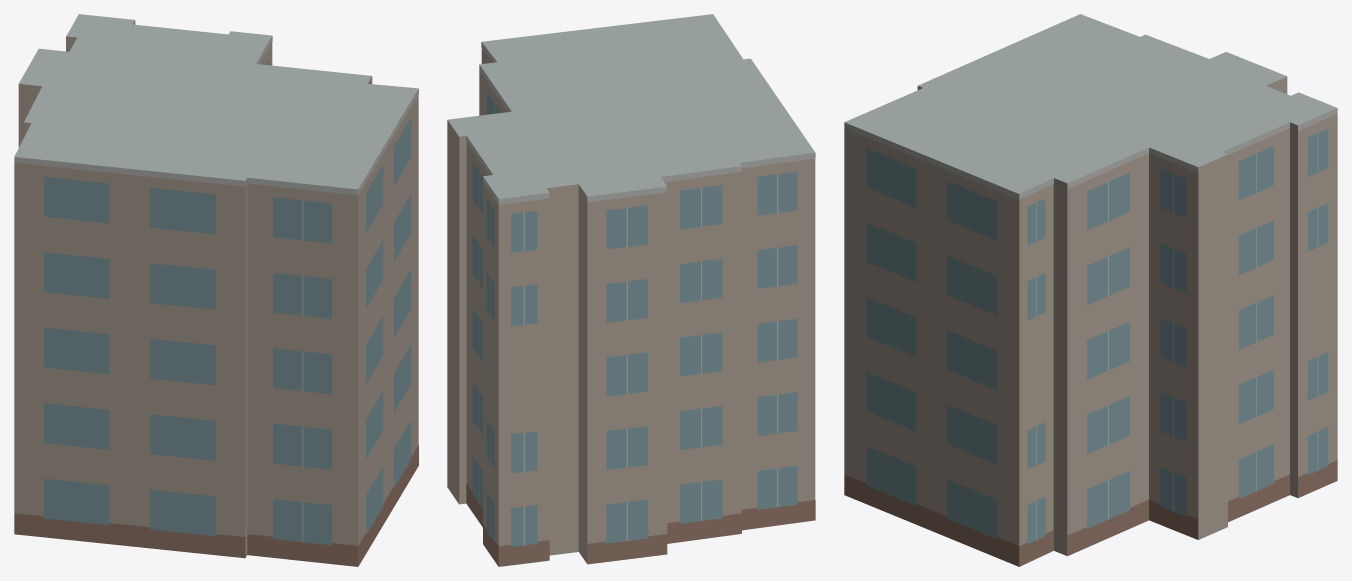
File: survey-upis-32769587.glb
The picture shows the model from 3 angles, left to right: view 1: azimuth 30°, elevation 25°; view 2: azimuth 150°, elevation 25°; view 3: azimuth 270°, elevation 25°; orthographic projection. The views are drawn at different scales.
Parts seen in each view (by area): view 1: survey-upis-32769587.tmp; view 2: survey-upis-32769587.tmp; view 3: survey-upis-32769587.tmp.
Boxes of the visible parts, x1,y1,x2,y2 form: survey-upis-32769587.tmp: [14, 14, 418, 566]; survey-upis-32769587.tmp: [447, 14, 815, 566]; survey-upis-32769587.tmp: [844, 14, 1337, 566].
Size of the model in its own units: 16.2 by 15.63 by 18.75.
